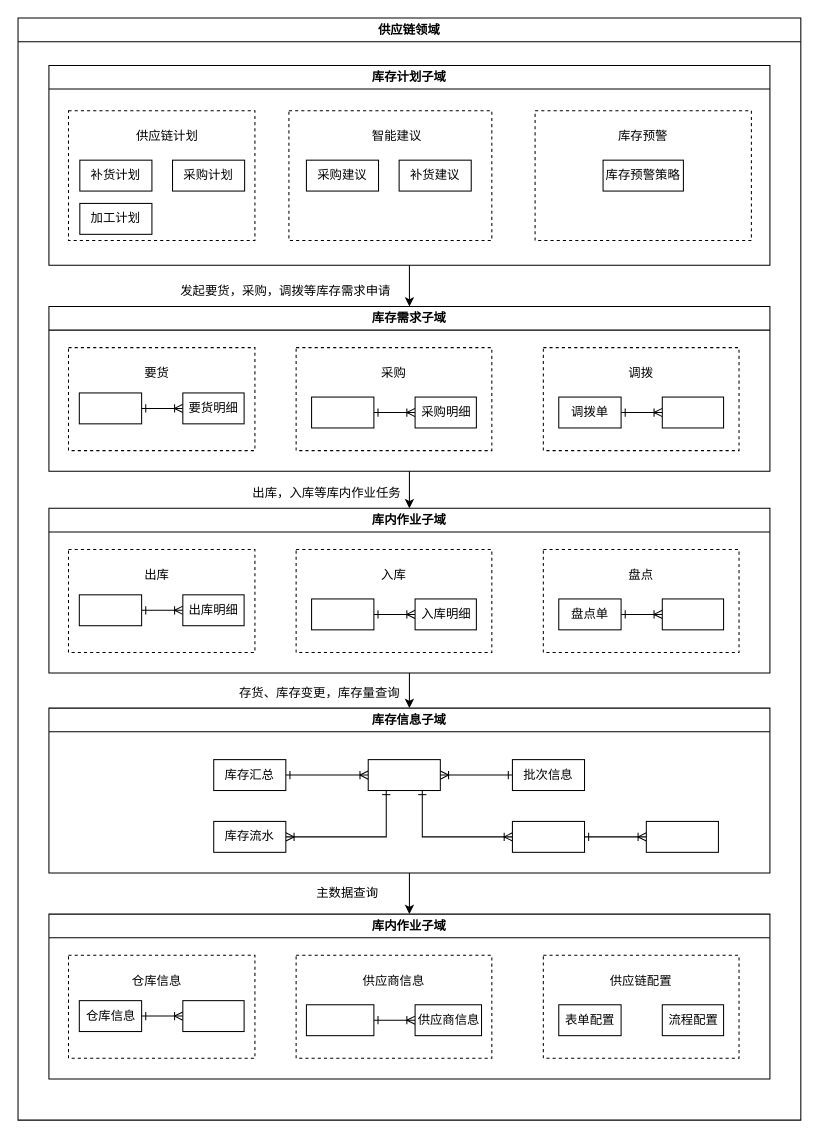
Image size: 819x1138. Some labels were removed from this diagram. Here are the shapes that lost their labels. From the top down, the centre of each, then its label:
the point at 110,408: 要货申请
the point at 342,412: 采购单
the point at 692,412: 调拨明细
the point at 110,610: 出库单
the point at 342,614: 入库单
the point at 692,614: 盘点明细
the point at 403,775: 存货库存
the point at 548,836: 序列号
the point at 681,836: 序列号流程
the point at 213,1016: 库位信息
the point at 339,1020: 供应商分类
